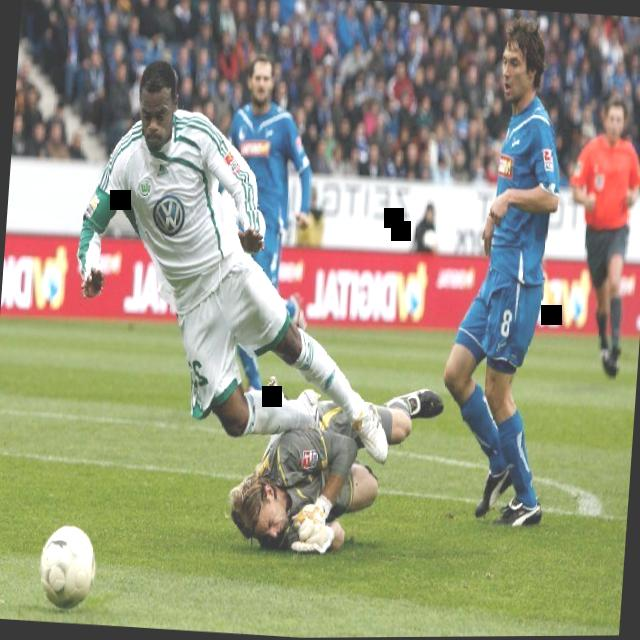Fall-Detected: (217, 347, 451, 573)
